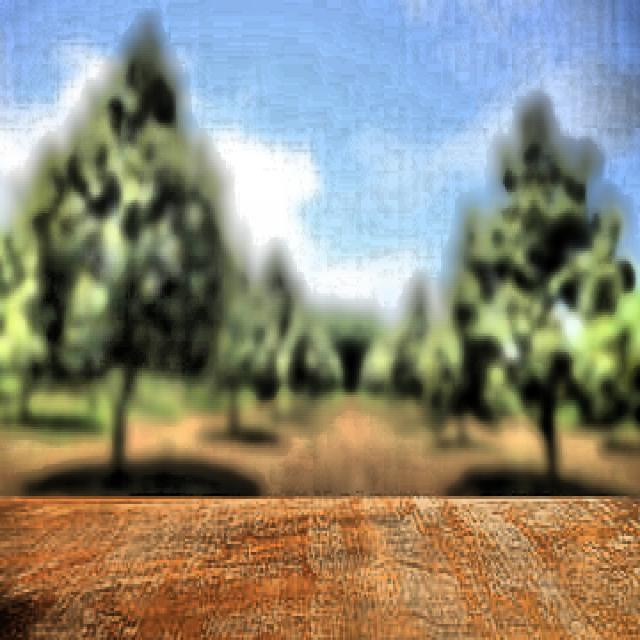arvore: (524, 360, 572, 496), (104, 311, 138, 501), (217, 344, 248, 458)
